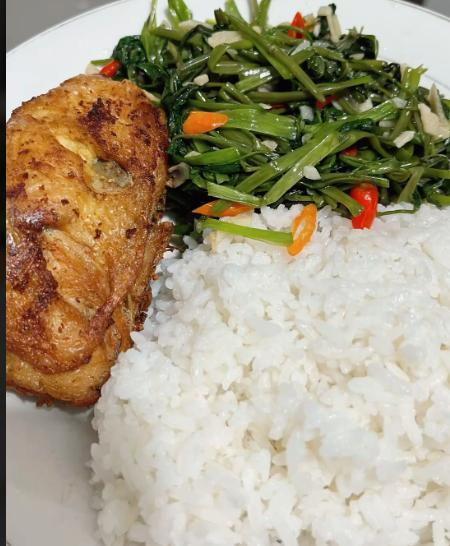buah_sayur_lainnya: (174, 52, 394, 173)
daging: (13, 104, 137, 345)
makanan_berpati: (176, 273, 434, 526)
